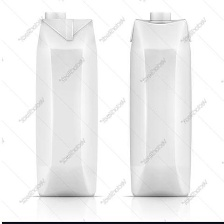carton: (123, 11, 194, 199), (32, 10, 100, 197)
